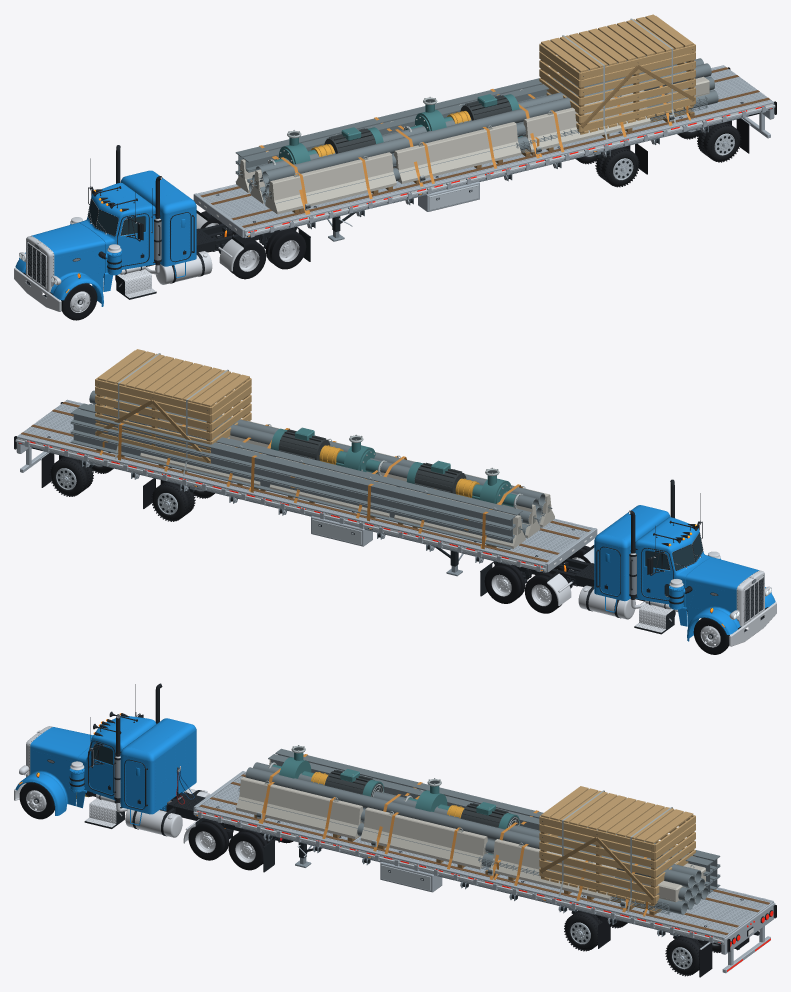
The model's file is avs-freight.glb.
3 renders of one model, top to bottom at view 1: azimuth 30°, elevation 25°; view 2: azimuth 150°, elevation 25°; view 3: azimuth 330°, elevation 25°, orthographic.
Visible parts, largest first — view 1: Cargo_Machinery | Cargo | pine crate slats, Cargo_Precast | Cargo | warm cast concrete, Tractor | Tractor | AVS cobalt enamel, Cargo_Steel | Cargo | mill steel, Trailer | Hardware | brushed aluminum, Tractor | Tractor | polished aluminum, Tractor | Tractor | chassis graphite, Trailer | Hardware | polished aluminum, Trailer | Hardware | galvanized steel, Tractor | Tractor | carbon tire rubber, Trailer | Trailer | apitong nail strips, Trailer | Tyres | satin sidewall (+12 smaller); view 2: Cargo_Steel | Cargo | mill steel, Cargo_Machinery | Cargo | pine crate slats, Tractor | Tractor | AVS cobalt enamel, Trailer | Hardware | brushed aluminum, Tractor | Tractor | polished aluminum, Tractor | Tractor | chassis graphite, Cargo_Precast | Cargo | warm cast concrete, Trailer | Hardware | polished aluminum, Tractor | Tractor | carbon tire rubber, Cargo_Machinery | Cargo | pump petrol enamel, Trailer | Hardware | galvanized steel, Trailer | Trailer | apitong nail strips (+11 smaller); view 3: Cargo_Machinery | Cargo | pine crate slats, Tractor | Tractor | AVS cobalt enamel, Cargo_Precast | Cargo | warm cast concrete, Trailer | Hardware | brushed aluminum, Cargo_Steel | Cargo | mill steel, Tractor | Tractor | polished aluminum, Tractor | Tractor | chassis graphite, Trailer | Hardware | polished aluminum, Trailer | Hardware | galvanized steel, Tractor | Tractor | carbon tire rubber, Trailer | Trailer | apitong nail strips, Cargo_Machinery | Cargo | pump petrol enamel (+11 smaller).
Boxes of the visible parts, x1=… form: Cargo_Machinery | Cargo | pine crate slats: x1=539, y1=14, x2=695, y2=134; Cargo_Precast | Cargo | warm cast concrete: x1=236, y1=76, x2=709, y2=214; Tractor | Tractor | AVS cobalt enamel: x1=15, y1=170, x2=196, y2=306; Cargo_Steel | Cargo | mill steel: x1=235, y1=55, x2=718, y2=203; Trailer | Hardware | brushed aluminum: x1=193, y1=65, x2=774, y2=238; Tractor | Tractor | polished aluminum: x1=14, y1=176, x2=299, y2=312; Tractor | Tractor | chassis graphite: x1=26, y1=145, x2=310, y2=304; Trailer | Hardware | polished aluminum: x1=245, y1=105, x2=775, y2=236; Trailer | Hardware | galvanized steel: x1=199, y1=66, x2=771, y2=241; Tractor | Tractor | carbon tire rubber: x1=22, y1=211, x2=306, y2=320; Trailer | Trailer | apitong nail strips: x1=200, y1=67, x2=770, y2=227; Trailer | Tyres | satin sidewall: x1=576, y1=122, x2=740, y2=186; Cargo_Steel | Cargo | mill steel: x1=70, y1=390, x2=545, y2=549; Cargo_Machinery | Cargo | pine crate slats: x1=95, y1=349, x2=251, y2=463; Tractor | Tractor | AVS cobalt enamel: x1=594, y1=505, x2=775, y2=641; Trailer | Hardware | brushed aluminum: x1=16, y1=399, x2=597, y2=572; Tractor | Tractor | polished aluminum: x1=491, y1=511, x2=776, y2=647; Tractor | Tractor | chassis graphite: x1=480, y1=479, x2=763, y2=639; Cargo_Precast | Cargo | warm cast concrete: x1=104, y1=406, x2=554, y2=548; Trailer | Hardware | polished aluminum: x1=15, y1=439, x2=545, y2=570; Tractor | Tractor | carbon tire rubber: x1=484, y1=545, x2=768, y2=654; Cargo_Machinery | Cargo | pump petrol enamel: x1=270, y1=427, x2=516, y2=507; Trailer | Hardware | galvanized steel: x1=20, y1=401, x2=591, y2=576; Trailer | Trailer | apitong nail strips: x1=21, y1=402, x2=590, y2=562; Cargo_Machinery | Cargo | pine crate slats: x1=539, y1=786, x2=695, y2=906; Tractor | Tractor | AVS cobalt enamel: x1=15, y1=716, x2=196, y2=825; Cargo_Precast | Cargo | warm cast concrete: x1=236, y1=759, x2=705, y2=902; Trailer | Hardware | brushed aluminum: x1=193, y1=771, x2=774, y2=973; Cargo_Steel | Cargo | mill steel: x1=239, y1=748, x2=720, y2=914; Tractor | Tractor | polished aluminum: x1=14, y1=714, x2=255, y2=862; Tractor | Tractor | chassis graphite: x1=26, y1=683, x2=298, y2=872; Trailer | Hardware | polished aluminum: x1=193, y1=811, x2=775, y2=969; Trailer | Hardware | galvanized steel: x1=199, y1=773, x2=770, y2=940; Tractor | Tractor | carbon tire rubber: x1=19, y1=782, x2=293, y2=870; Trailer | Trailer | apitong nail strips: x1=199, y1=774, x2=769, y2=934; Cargo_Machinery | Cargo | pump petrol enamel: x1=272, y1=752, x2=520, y2=854.
Bounding box in the file's own units: 21.88 × 3.67 × 2.81.
